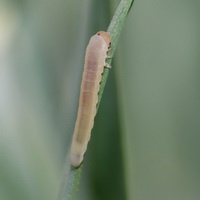insect: (70, 31, 110, 166)
